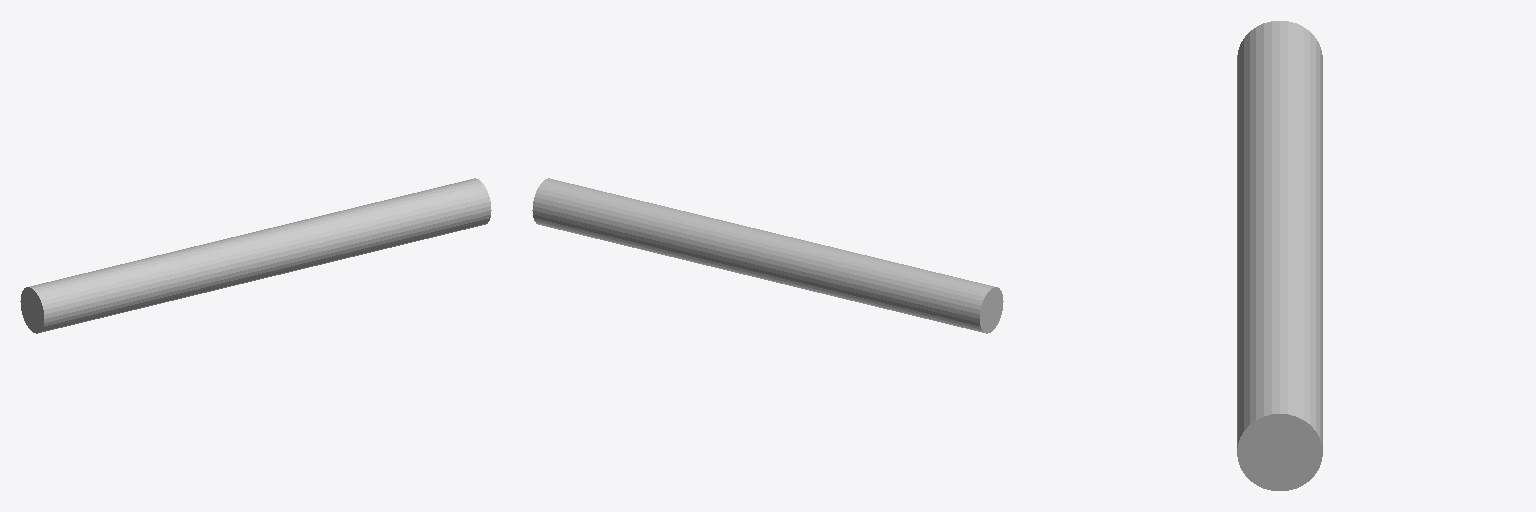
robot.urdf — rod:
<?xml version="1.0" encoding="utf-8"?>
<robot name="rod">
  <link name="rod_Link">
    <inertial>
      <origin xyz="0 0 0" rpy="0 0 0"/>
      <mass value="0.8"/>
      <inertia ixx="0.001" iyy="0.001" izz="0.0005" ixy="0" ixz="0" iyz="0"/>
    </inertial>
    <visual>
      <origin xyz="0 0 0" rpy="0 -1.57 0"/>
      <geometry><cylinder length="0.8" radius="0.037"/></geometry>
      <material name="gray"><color rgba="0.8 0.8 0.8 1"/></material>
    </visual>
    <collision>
      <origin xyz="0 0 0" rpy="0 -1.57 0"/>
      <geometry><cylinder length="0.8" radius="0.037"/></geometry>
    </collision>
  </link>
</robot>

--- Facts derived from the render (not from the file) ---
3 views of the same robot in one strip: view 1: azimuth 30°, elevation 25°; view 2: azimuth 150°, elevation 25°; view 3: azimuth 270°, elevation 25° (orthographic).
Robot: rod — 1 links, 0 joints (none); root link rod_Link; default pose: every joint at zero.
Visible links, largest first — view 1: rod_Link; view 2: rod_Link; view 3: rod_Link.
Boxes of the visible links, box(x1,y1,x2,y2) form: rod_Link: box(20, 178, 491, 333); rod_Link: box(532, 178, 1003, 333); rod_Link: box(1237, 21, 1322, 490).
Size in the robot's own frame: 0.8001 by 0.074 by 0.0746 metres.
Geometry: primitives only (box / cylinder / sphere), no mesh files.
